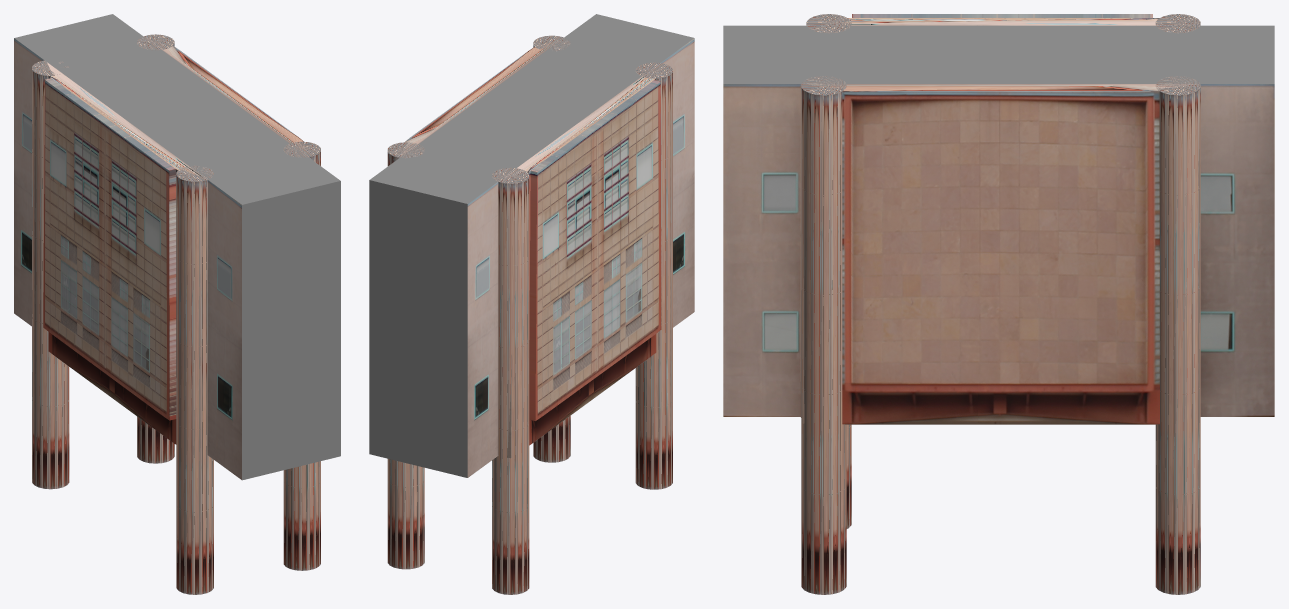
File: CDBridge.FBX
3 renders of one model, left to right at view 1: azimuth 30°, elevation 25°; view 2: azimuth 150°, elevation 25°; view 3: azimuth 270°, elevation 25°, orthographic. The views are drawn at different scales.
Parts seen in each view (by area): view 1: Box001, Cylinder001, Cylinder002, Cylinder003, Cylinder004; view 2: Box001, Cylinder002, Cylinder001, Cylinder004, Cylinder003; view 3: Box001, Cylinder003, Cylinder004, Cylinder001, Cylinder002.
Part boxes in pixels (left/top/right/bottom): Box001: left=14, top=14, right=340, bottom=480; Cylinder001: left=176, top=165, right=213, bottom=594; Cylinder002: left=32, top=60, right=69, bottom=489; Cylinder003: left=283, top=141, right=320, bottom=570; Cylinder004: left=137, top=34, right=174, bottom=463; Box001: left=369, top=14, right=694, bottom=477; Cylinder002: left=492, top=167, right=529, bottom=594; Cylinder001: left=635, top=62, right=672, bottom=489; Cylinder004: left=387, top=142, right=424, bottom=569; Cylinder003: left=533, top=35, right=570, bottom=462; Box001: left=723, top=14, right=1274, bottom=424; Cylinder003: left=801, top=76, right=846, bottom=594; Cylinder004: left=1155, top=76, right=1200, bottom=594; Cylinder001: left=806, top=14, right=851, bottom=528; Cylinder002: left=1155, top=14, right=1200, bottom=33.
Bounding box in the file's own units: 10.48 × 30 × 30.
